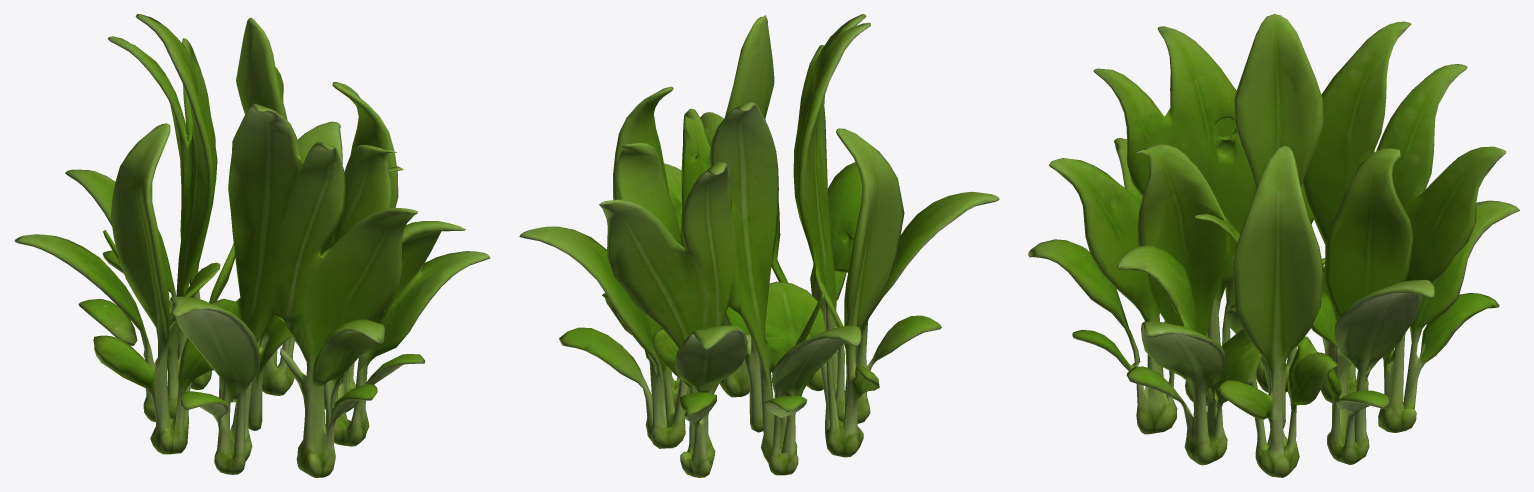
File: plant_sword.glb
The picture shows the model from 3 angles, left to right: view 1: azimuth 30°, elevation 25°; view 2: azimuth 150°, elevation 25°; view 3: azimuth 270°, elevation 25°; orthographic projection.
Parts seen in each view (by area): view 1: Vallisneria; view 2: Vallisneria; view 3: Vallisneria.
Part boxes in pixels (x1,y1,x2,y2): Vallisneria: (14,14,490,477); Vallisneria: (519,14,999,477); Vallisneria: (1028,14,1519,477).
Size of the model in its own units: 0.8628 by 0.9993 by 1.07.
Materials: 1 (1 with a texture image).
